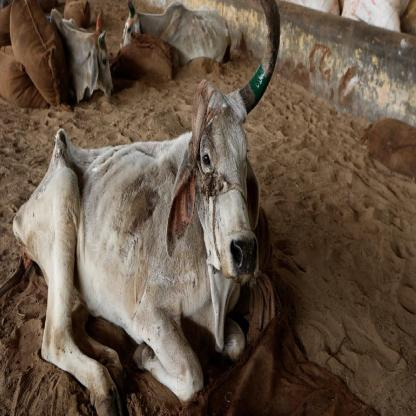cow: (19, 88, 272, 394)
